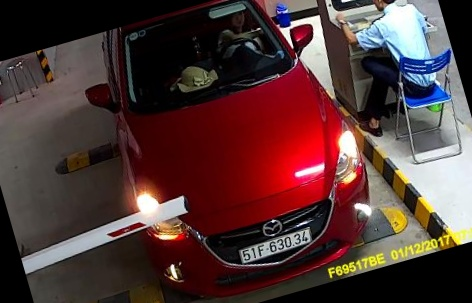plate: (233, 228, 319, 267)
